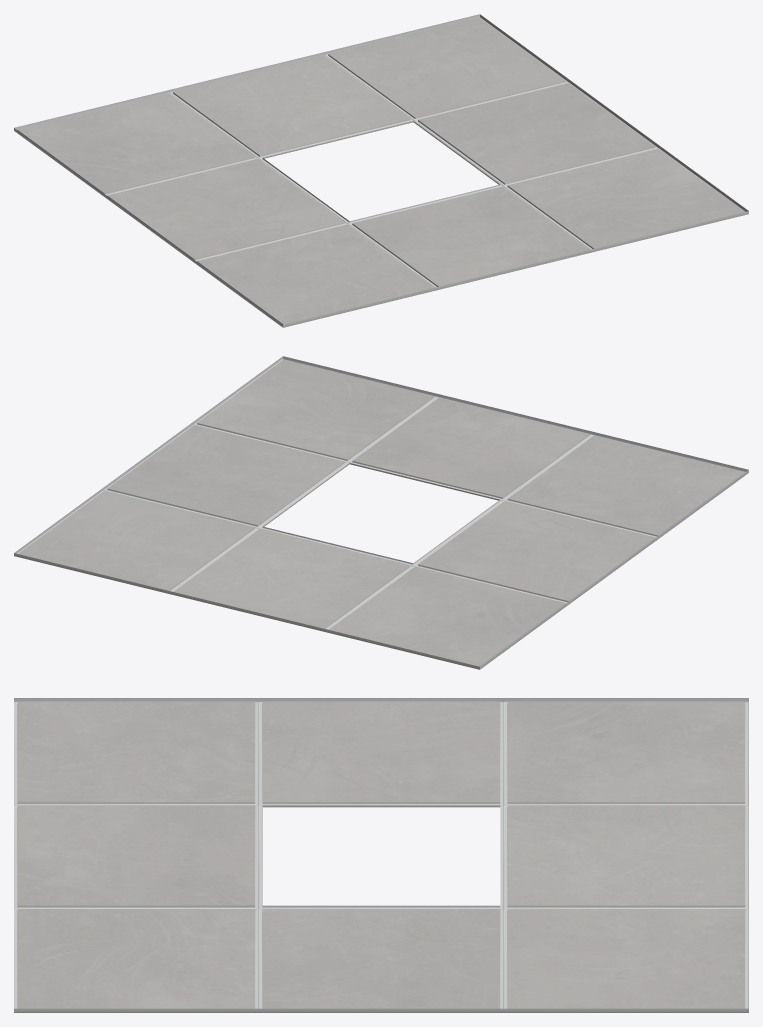
Rendered from ceiling_panel.fbx.
3 views of the same model, one above another, from view 1: azimuth 30°, elevation 25°; view 2: azimuth 150°, elevation 25°; view 3: azimuth 270°, elevation 25° (orthographic). The views are drawn at different scales.
Visible parts, largest first — view 1: Plane.012; view 2: Plane.012; view 3: Plane.012.
Part boxes in pixels (x1,y1,x2,y2): Plane.012: (14,14,748,327); Plane.012: (14,356,748,669); Plane.012: (14,698,748,1012).
Size of the model in its own units: 300 by 2 by 300.
